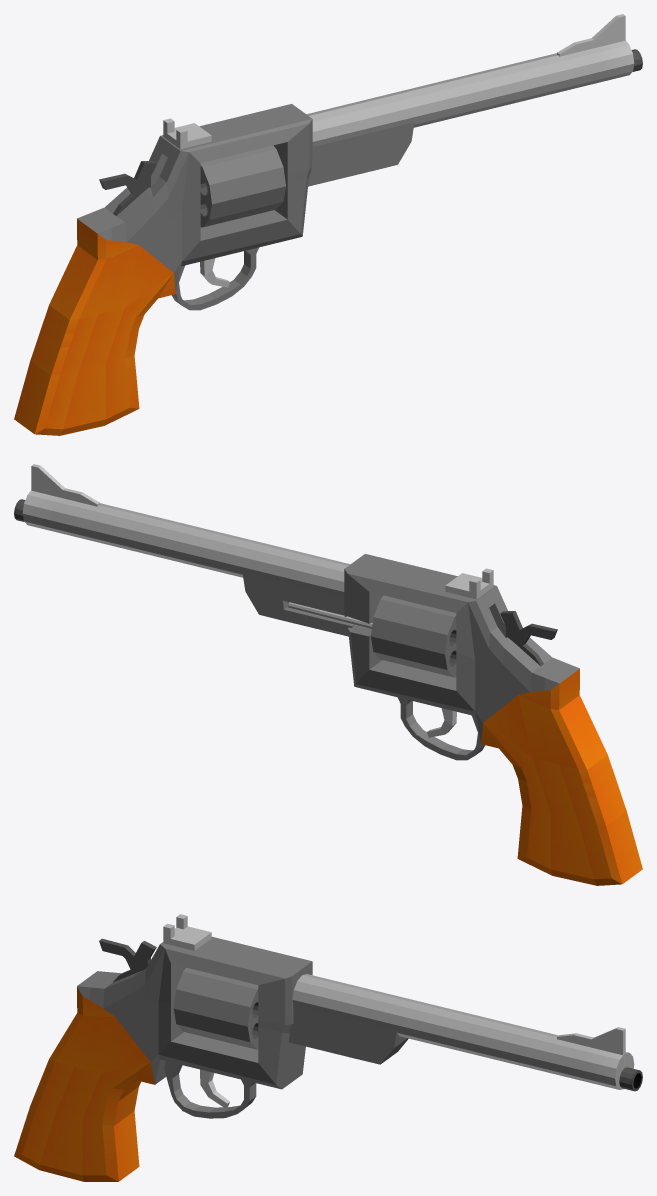
Rendered from Revolver.fbx.
3 renders of one model, top to bottom at view 1: azimuth 30°, elevation 25°; view 2: azimuth 150°, elevation 25°; view 3: azimuth 330°, elevation 25°, orthographic.
Visible parts, largest first — view 1: Cube, Cylinder, Cylinder.001, Cube.001, Cube.006, Cube.003, Cube.002; view 2: Cube, Cylinder, Cylinder.001, Cube.001, Cube.006, Cube.003, Cube.002, Cylinder.002; view 3: Cube, Cylinder, Cylinder.001, Cube.001, Cube.006, Cube.003, Cube.002, Cube.004.
Boxes of the visible parts, x1,y1,x2,y2 form: Cube: (14,104,312,435); Cylinder: (306,40,642,146); Cylinder.001: (200,145,285,227); Cube.001: (308,122,414,186); Cube.006: (163,14,625,149); Cube.003: (171,247,259,310); Cube.002: (99,161,156,215); Cube: (344,554,642,885); Cylinder: (14,490,350,596); Cylinder.001: (371,595,456,677); Cube.001: (242,572,354,636); Cube.006: (31,464,493,599); Cube.003: (397,697,485,760); Cube.002: (500,611,557,665); Cylinder.002: (288,602,372,628); Cube: (14,936,312,1181); Cylinder: (292,974,642,1091); Cylinder.001: (173,967,258,1049); Cube.001: (289,1005,408,1064); Cube.006: (163,914,625,1055); Cube.003: (164,1061,256,1118); Cube.002: (99,938,156,982); Cube.004: (200,1069,229,1108).
Bounding box in the file's own units: 961 × 410 × 104.
